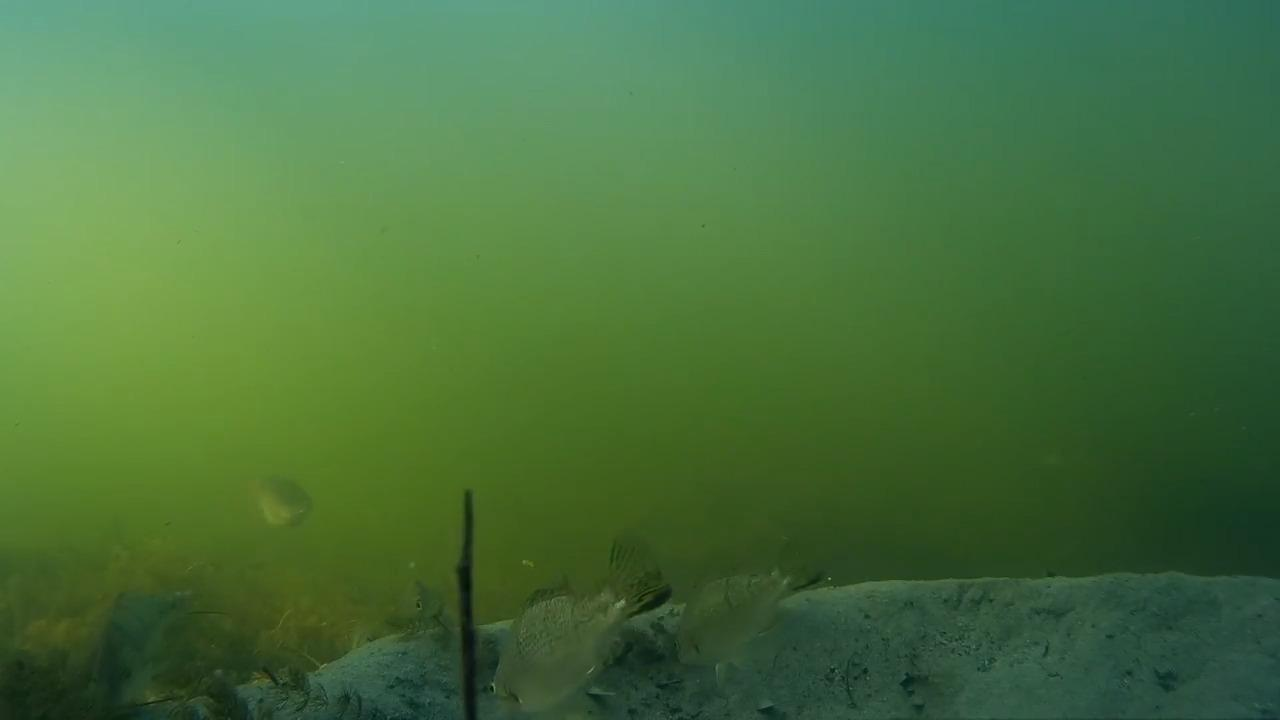Tilapia: (462, 537, 679, 718), (666, 544, 845, 720), (109, 590, 189, 704), (385, 576, 452, 658), (242, 470, 319, 530)
